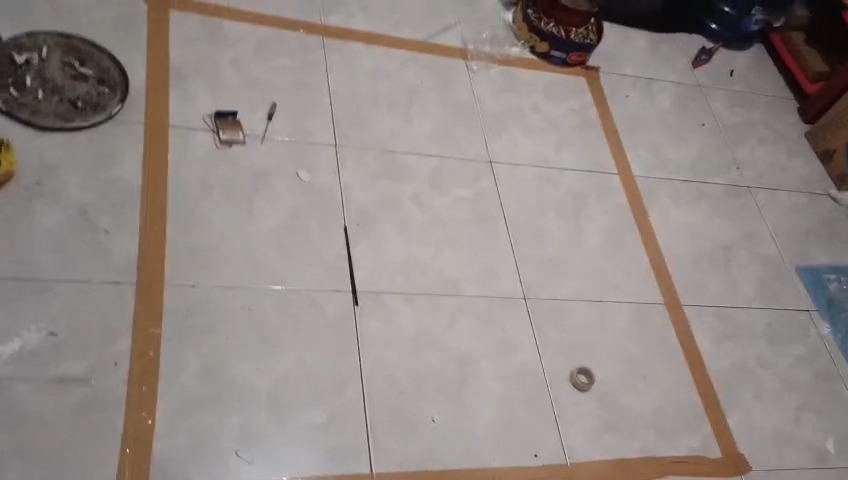floor marking: (312, 54, 749, 479), (118, 0, 471, 479)
